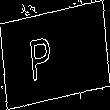P_N: (42, 28, 68, 82)
